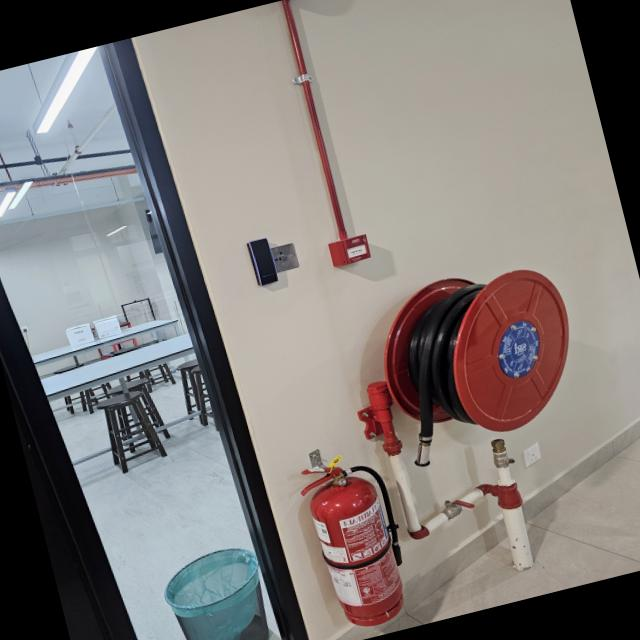obstacle: (352, 249, 636, 597), (288, 434, 422, 637)
